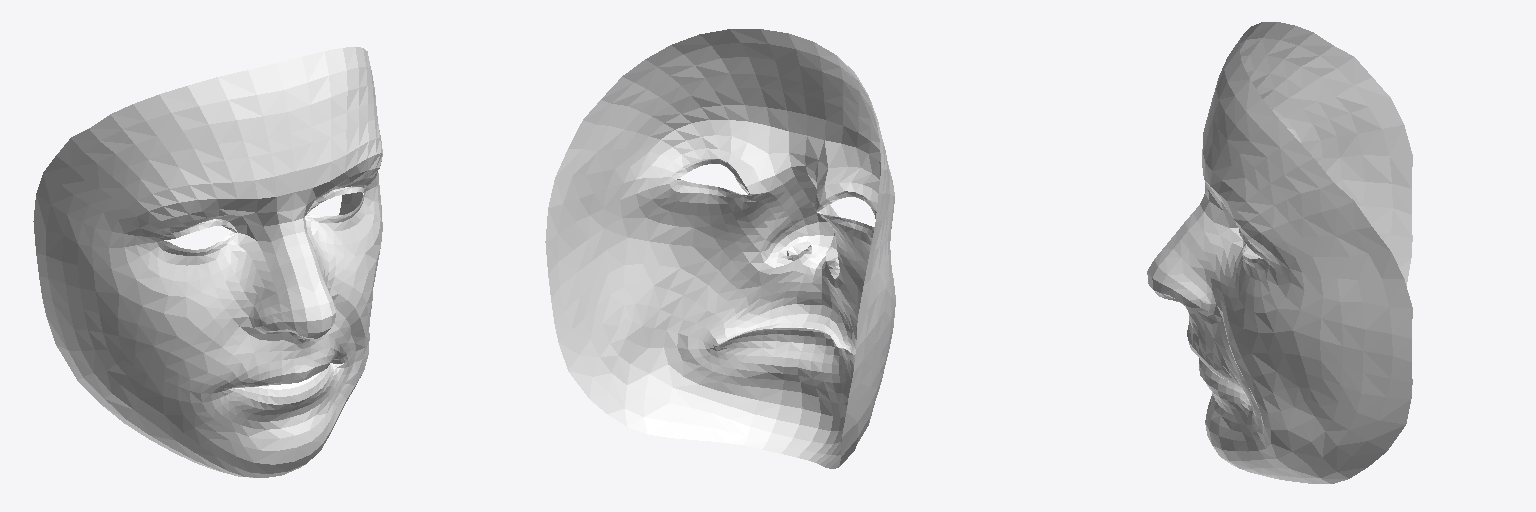
File: mouthStretch_L.obj
3 views of the same model, side by side, from view 1: azimuth 30°, elevation 25°; view 2: azimuth 150°, elevation 25°; view 3: azimuth 270°, elevation 25° (orthographic).
Visible parts, largest first — view 1: default; view 2: default; view 3: default.
Part boxes in pixels (x1,y1,x2,y2): default: (33, 47, 382, 477); default: (545, 29, 895, 468); default: (1147, 22, 1412, 483).
Bounding box in the file's own units: 0.1447 × 0.182 × 0.1055.